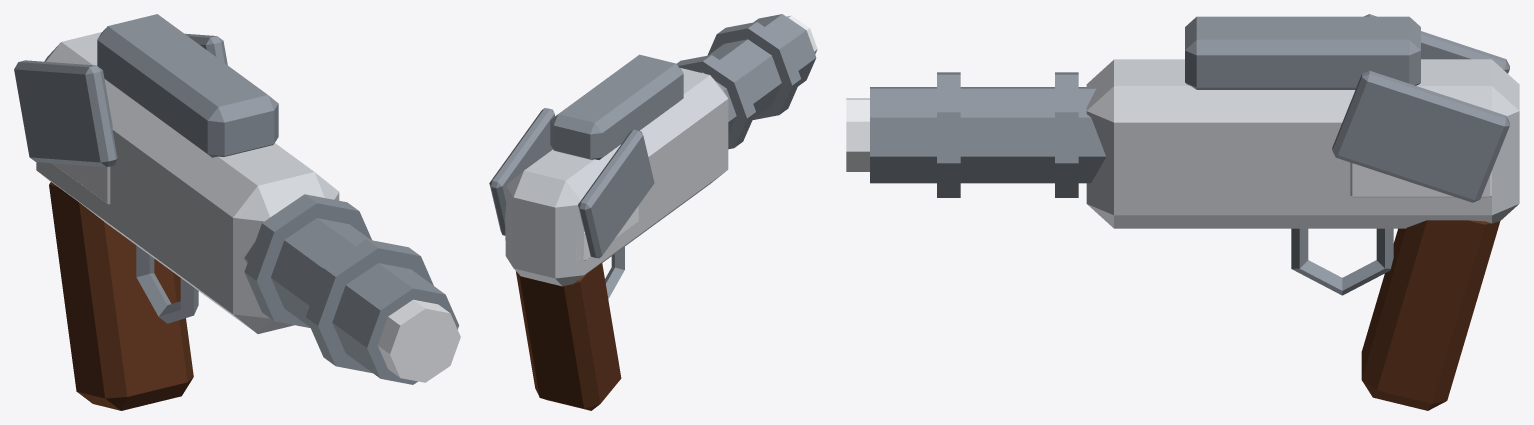
File: IronLaserBlaster.fbx
3 renders of one model, left to right at view 1: azimuth 30°, elevation 25°; view 2: azimuth 150°, elevation 25°; view 3: azimuth 270°, elevation 25°, orthographic. The views are drawn at different scales.
Visible parts, largest first — view 1: IronLaserBlaster; view 2: IronLaserBlaster; view 3: IronLaserBlaster.
Boxes of the visible parts, x1,y1,x2,y2 form: IronLaserBlaster: [14, 14, 460, 410]; IronLaserBlaster: [489, 14, 817, 410]; IronLaserBlaster: [846, 14, 1519, 410].
Bounding box in the file's own units: 0.78 × 2.07 × 3.42.
1 material, 1 textured.
